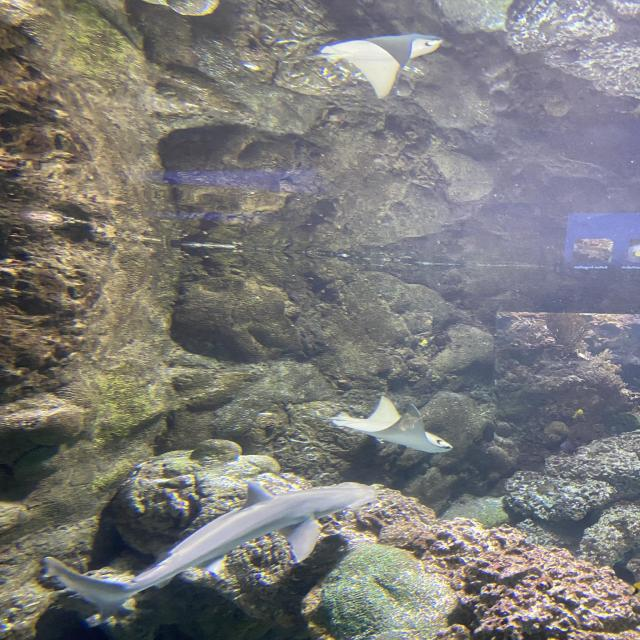shark: (46, 481, 376, 614)
stingray: (320, 32, 443, 98), (332, 396, 453, 460)
